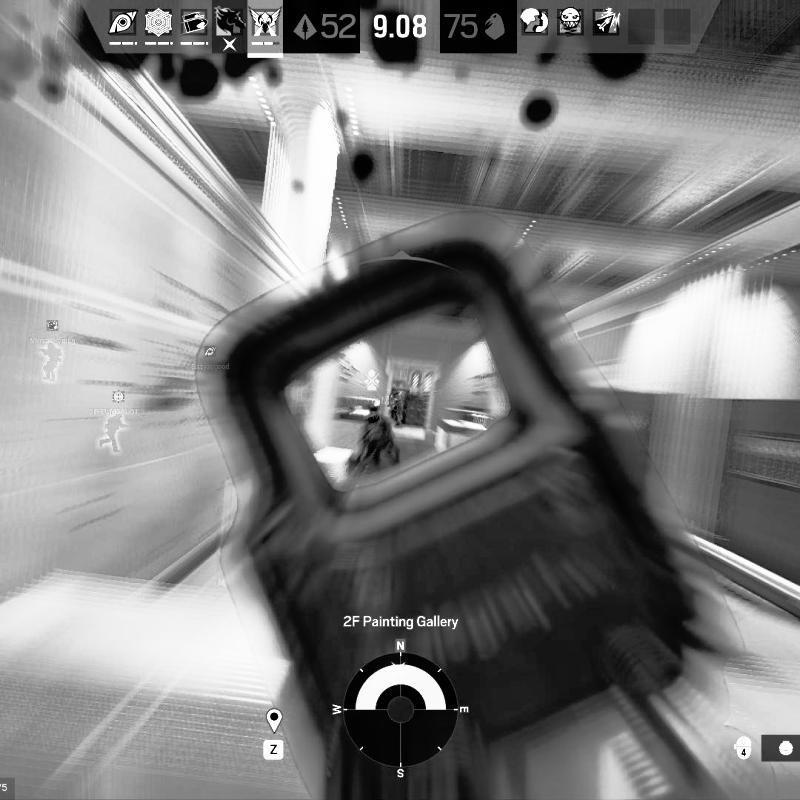Character: (354, 406, 401, 472), (388, 386, 407, 428)
Friend_label: (87, 388, 153, 418), (30, 317, 78, 347), (193, 344, 231, 374)
Head: (367, 407, 380, 419), (391, 386, 398, 394)
